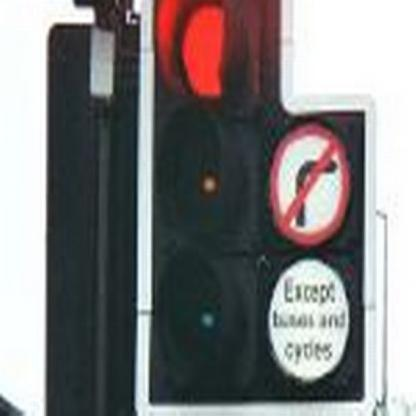Red Light: (144, 0, 267, 403)
